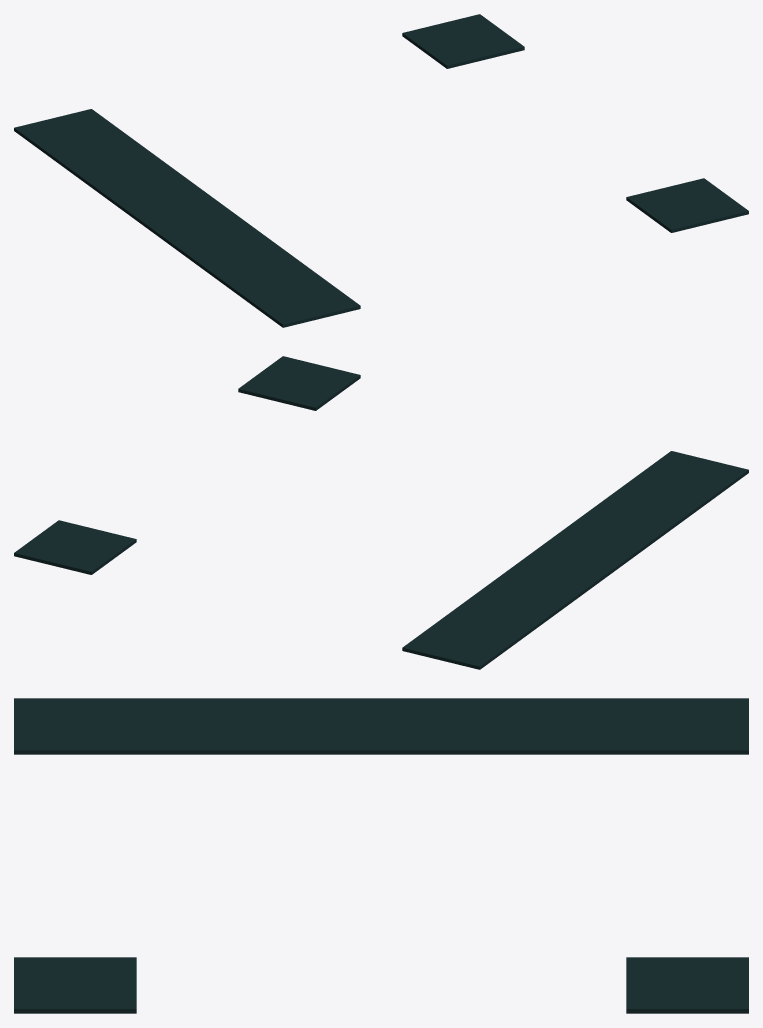
File: oc_road_tjunction_01_collision.glb
3 renders of one model, top to bottom at view 1: azimuth 30°, elevation 25°; view 2: azimuth 150°, elevation 25°; view 3: azimuth 270°, elevation 25°, orthographic. The views are drawn at different scales.
Parts seen in each view (by area): view 1: COL_PaveW, COL_Corner1-1, COL_Corner11, COL_Corner-1-1, COL_Corner-11; view 2: COL_PaveW, COL_Corner11, COL_Corner1-1, COL_Corner-11, COL_Corner-1-1; view 3: COL_PaveW, COL_Corner1-1, COL_Corner11, COL_Corner-1-1, COL_Corner-11.
Boxes of the visible parts, box(x1,y1,x2,y2) form: COL_PaveW: box(59, 141, 315, 294); COL_Corner1-1: box(626, 178, 748, 232); COL_Corner11: box(402, 14, 524, 68); COL_Corner-1-1: box(238, 273, 360, 327); COL_Corner-11: box(14, 109, 135, 163); COL_PaveW: box(447, 483, 703, 636); COL_Corner11: box(14, 520, 136, 574); COL_Corner1-1: box(238, 356, 360, 410); COL_Corner-11: box(402, 615, 524, 669); COL_Corner-1-1: box(627, 451, 748, 505); COL_PaveW: box(136, 698, 626, 754); COL_Corner1-1: box(14, 957, 136, 1013); COL_Corner11: box(626, 957, 748, 1013); COL_Corner-1-1: box(14, 698, 136, 754); COL_Corner-11: box(626, 698, 748, 754).
Bounding box in the file's own units: 18 × 0.12 × 18.
